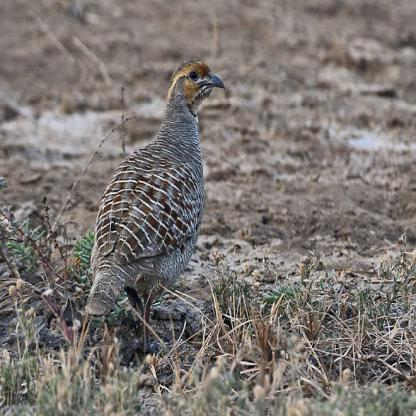Burung: (85, 58, 225, 360)
